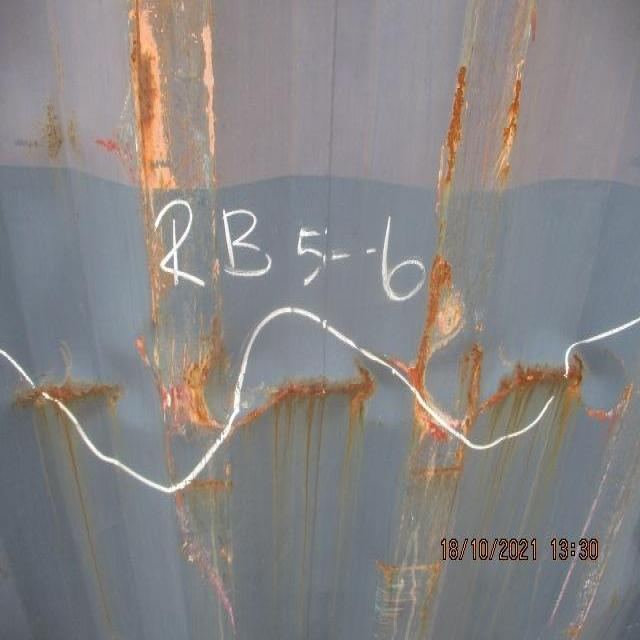Dent: (8, 181, 634, 544)
